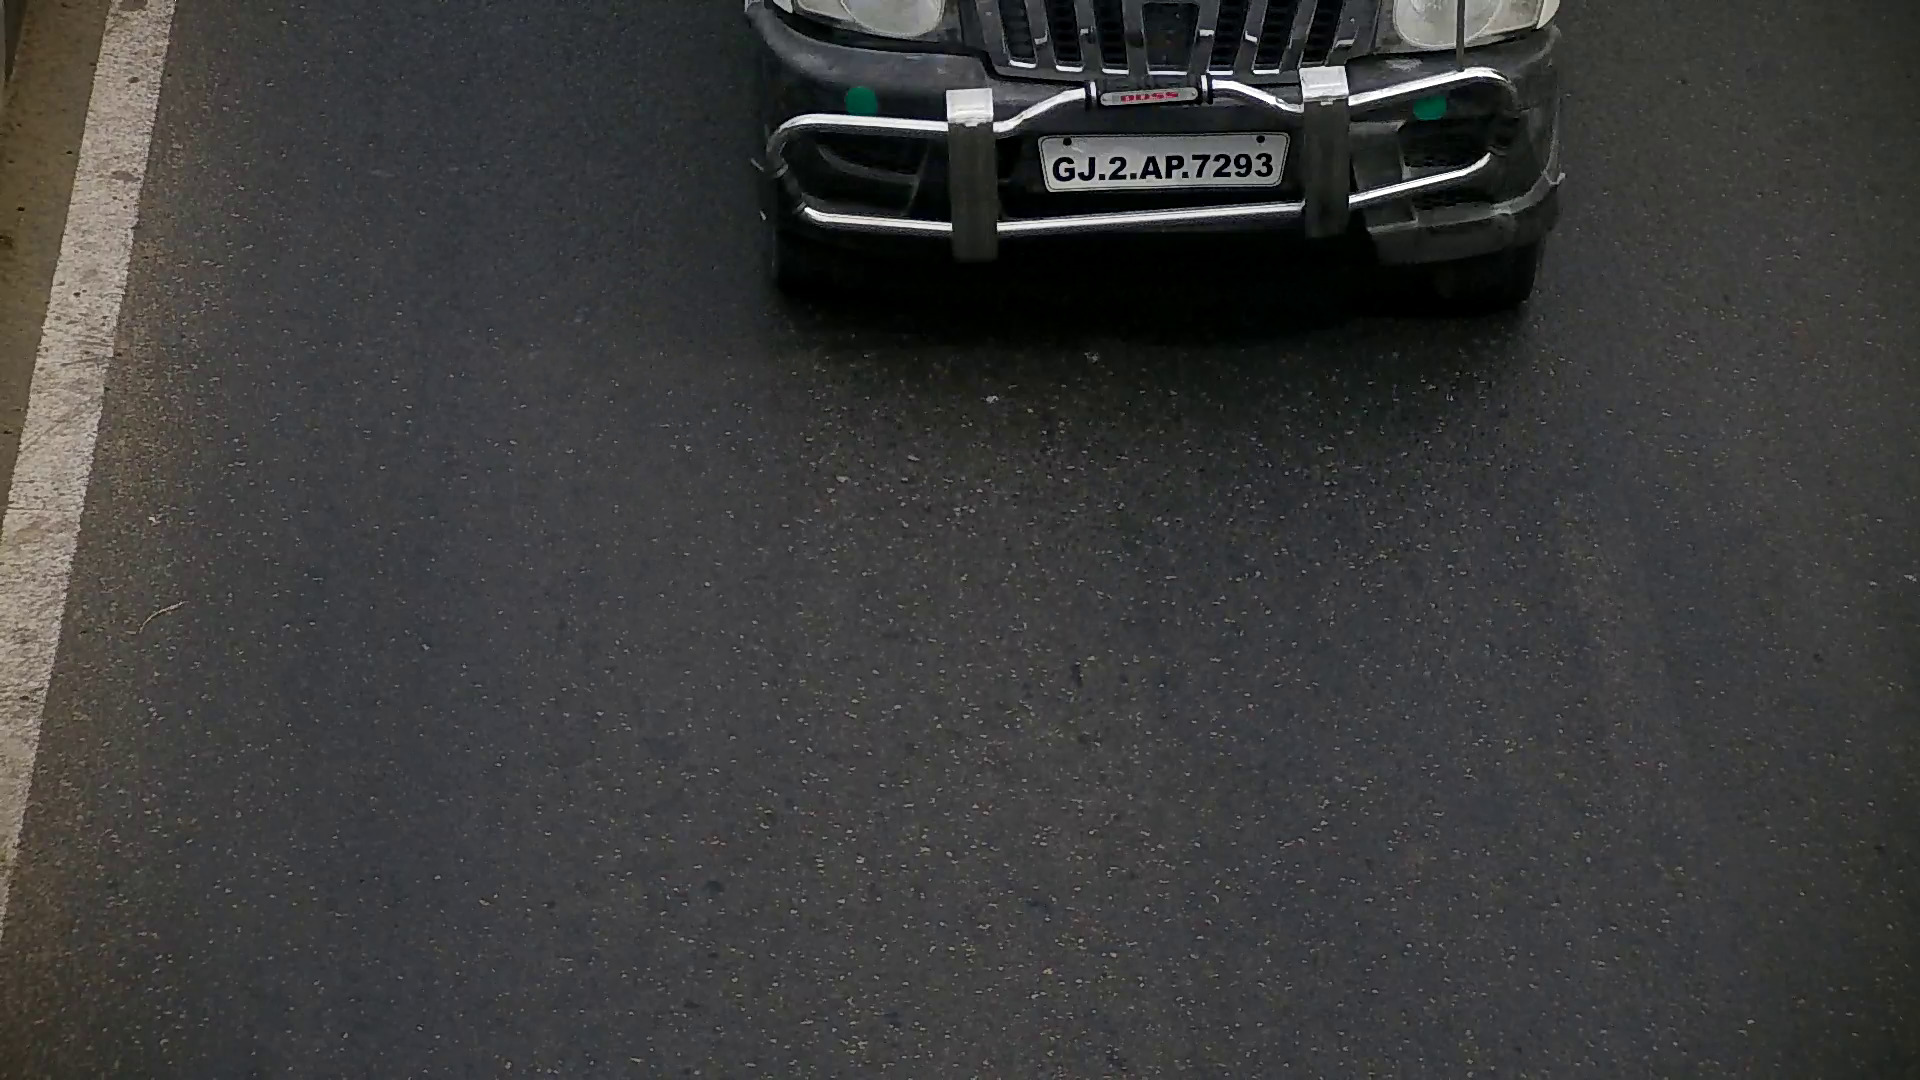numberplate: (1033, 126, 1289, 183)
